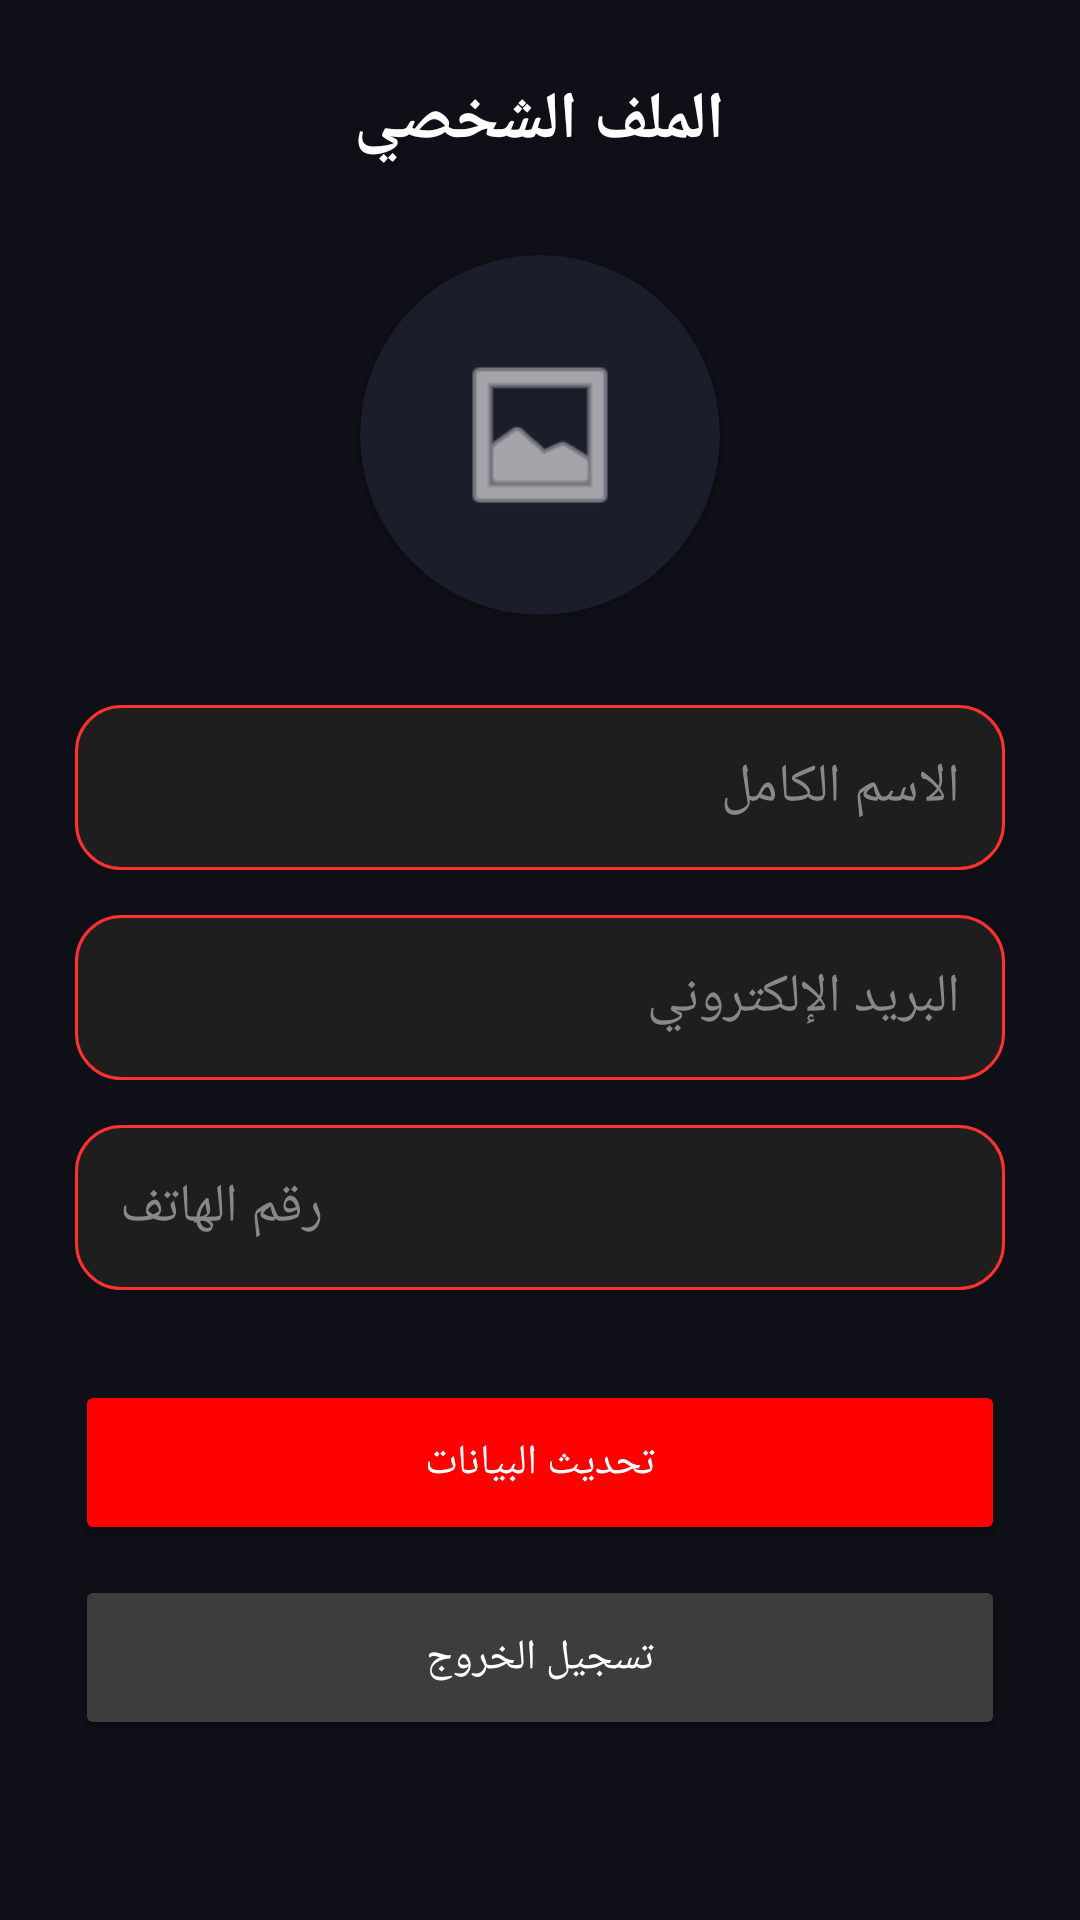

Named icons in this screenshot (1080*1920) and their bounding boxes, (x1, y1, x2, y2):
gallery: (472, 367, 608, 503)
